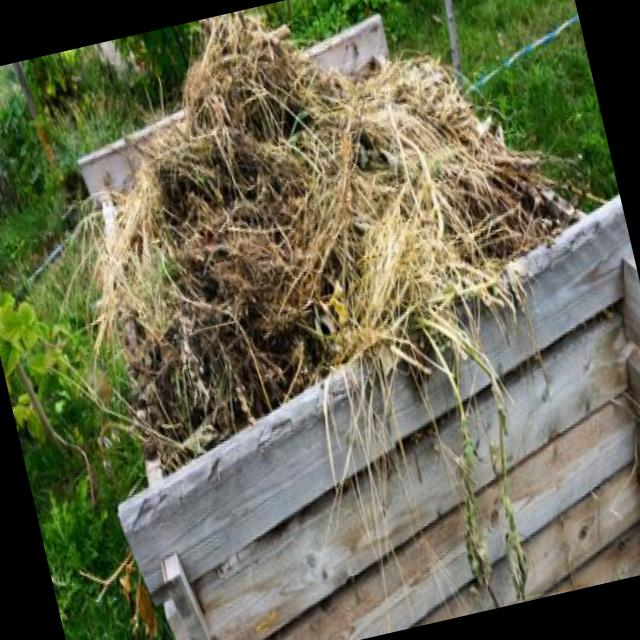paper: (84, 69, 516, 368), (0, 244, 73, 406)
